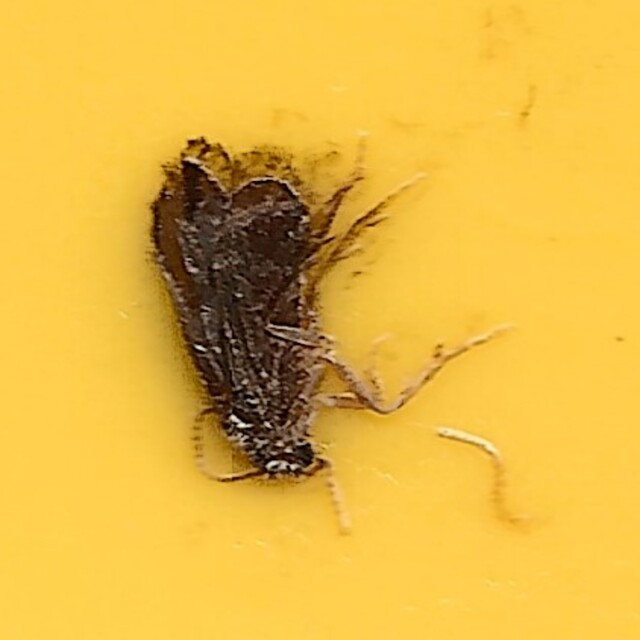Trichoptera: (152, 126, 488, 514)
